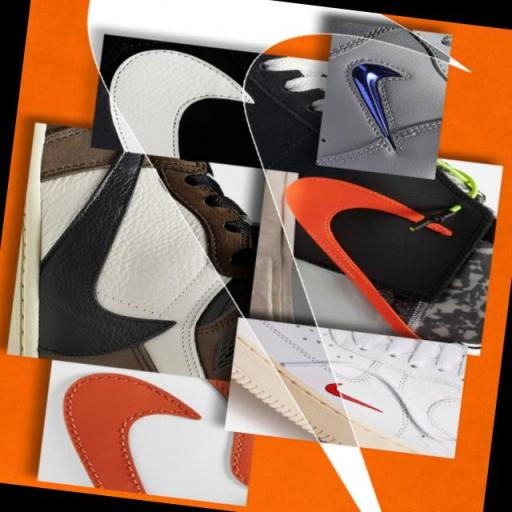Nike: (317, 376, 389, 414)
